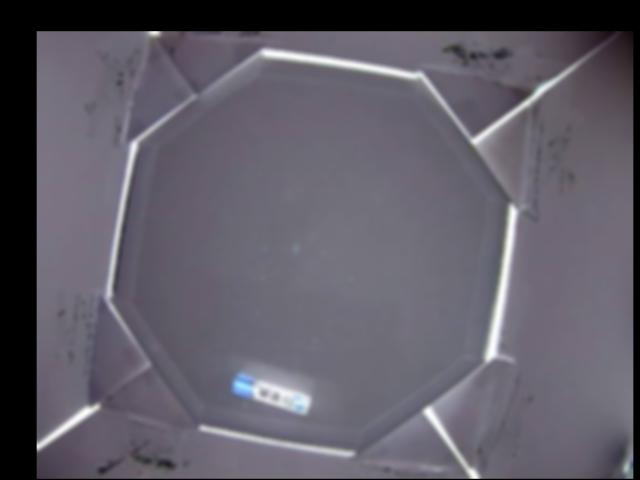Battery: (231, 372, 313, 412)
